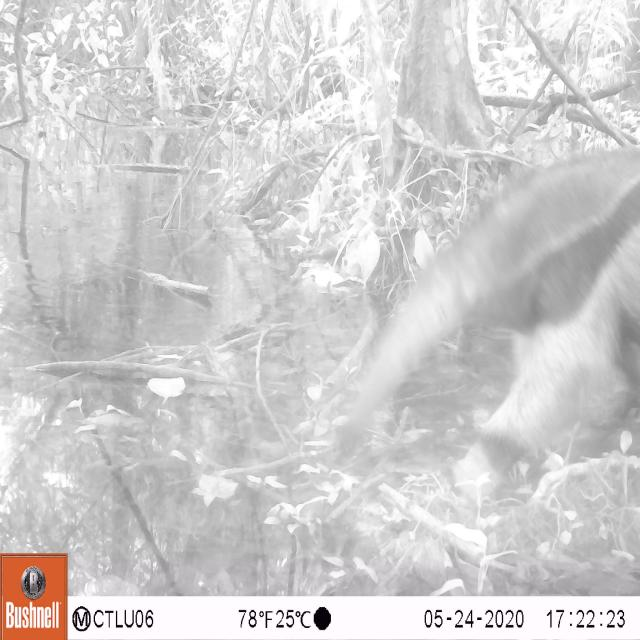Giant Anteater: (322, 143, 640, 501)
